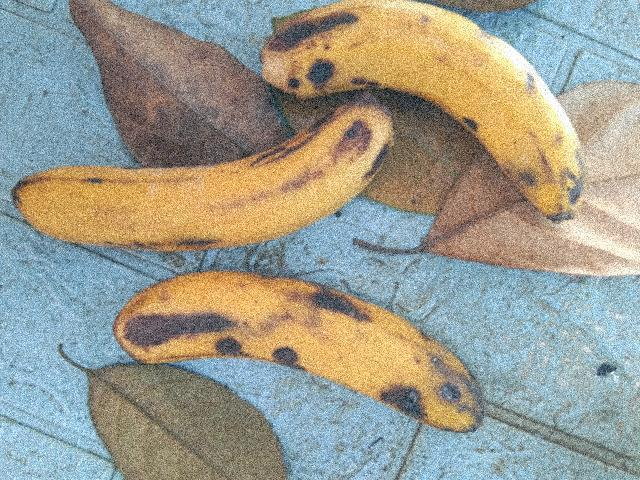overripe: (92, 262, 511, 479), (260, 0, 585, 218)
ripe: (12, 91, 396, 260)
